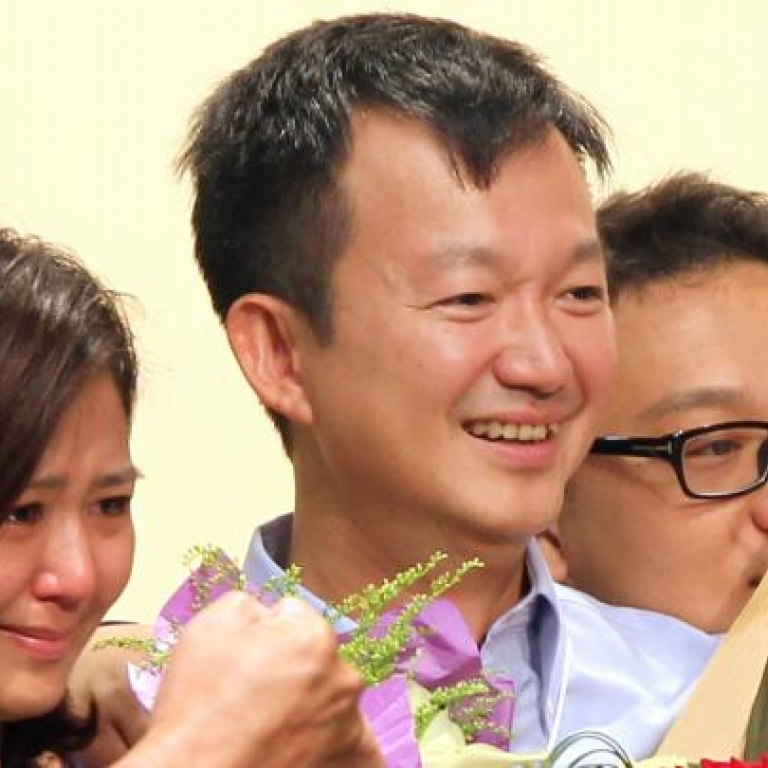bare: (279, 318, 628, 521), (581, 476, 768, 633), (1, 548, 135, 717)
